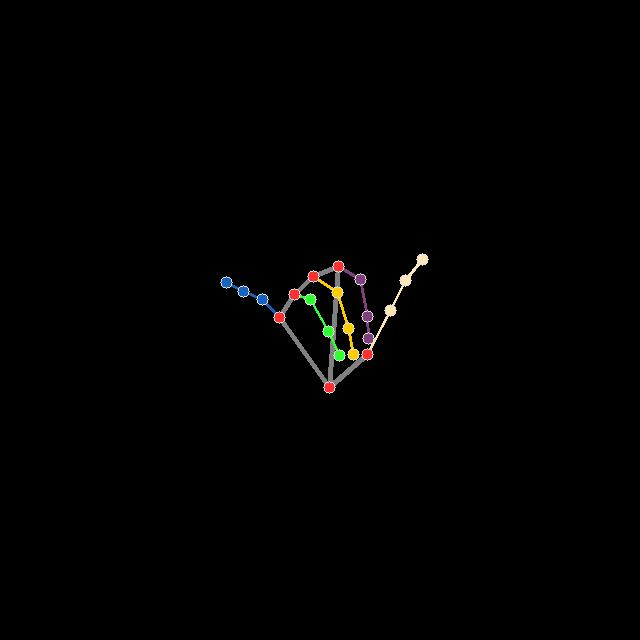skr: (218, 251, 429, 394)
